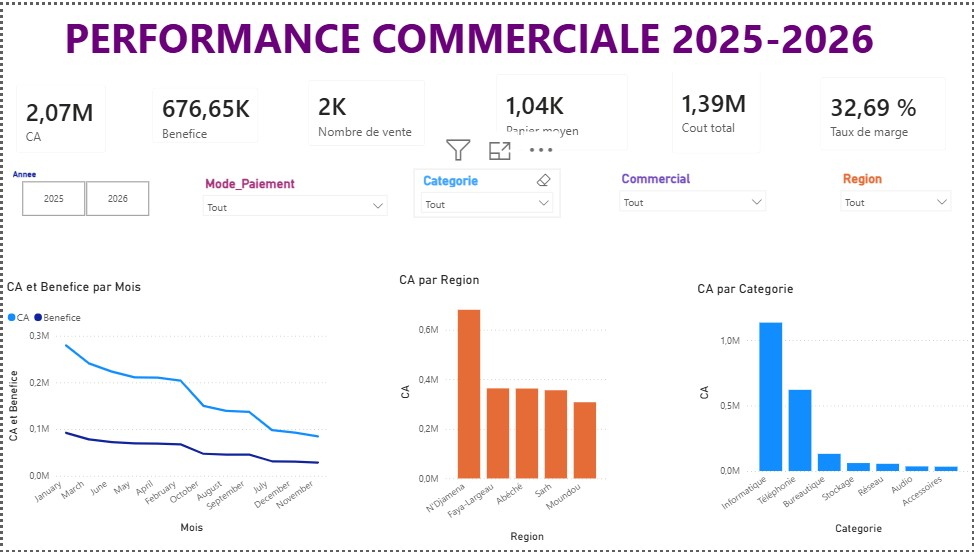

The page's visual inventory and layout, read from the dashboard file:
{"tool":"powerbi","page":{"name":"performance Commerciale","canvas":[1280,720],"ordinal":0},"visuals":[{"type":"cardVisual","fields":{"Data":["Fact_Ventes.CA"]},"box":[0,88.4,153.8,124.9],"z":0},{"type":"cardVisual","fields":{"Data":["Fact_Ventes.Benefice"]},"box":[180.7,92.3,174.9,107.6],"z":1000},{"type":"cardVisual","fields":{"Data":["Fact_Ventes.Cout total"]},"box":[866.8,63.4,151.8,149.9],"z":2000},{"type":"cardVisual","fields":{"Data":["Fact_Ventes.Nombre de vente"]},"box":[385,81.7,188.3,121.1],"z":3000},{"type":"cardVisual","fields":{"Data":["Fact_Ventes.Panier moyen"]},"box":[634.3,74.3,208.6,135.7],"z":4000},{"type":"cardVisual","fields":{"Data":["Fact_Ventes.Quantite vendues"]},"box":[626.5,0,13.5,75],"z":5000},{"type":"cardVisual","fields":{"Data":["Fact_Ventes.Taux de marge"]},"box":[1062.5,77.5,200,131.2],"z":6000},{"type":"lineChart","fields":{"Category":["Dim_Date.Mois"],"Y":["Fact_Ventes.CA","Fact_Ventes.Benefice"]},"box":[0,361.3,432.4,340.2],"z":7000},{"type":"columnChart","fields":{"Y":["Fact_Ventes.CA"],"Category":["Dim_Produit.Categorie"]},"box":[911.7,363.3,369,340.2],"z":8000},{"type":"slicer","fields":{"Values":["Dim_Date.Annee"]},"box":[0,212.2,216.7,73.3],"z":9000},{"type":"slicer","fields":{"Values":["Dim_Commercial.Commercial"]},"box":[803.3,213.3,213.3,75],"z":10000},{"type":"slicer","fields":{"Values":["Dim_Produit.Categorie"]},"box":[542,215.3,194.1,67.3],"z":11000},{"type":"slicer","fields":{"Values":["Fact_Ventes.Mode_Paiement"]},"box":[253.7,219.1,263.3,75],"z":12000},{"type":"textbox","box":[76.9,0,1116.6,88.4],"z":13000},{"type":"columnChart","fields":{"Y":["Fact_Ventes.CA"],"Category":["Dim_Commercial.Region"]},"box":[518.3,351.7,286,362],"z":14000},{"type":"slicer","fields":{"Values":["Dim_Commercial.Region"]},"box":[1096,214,166,70],"z":15000}]}

Visuals, with their boxes in screenshot pixels (x1, y1, x2, y2), scaled from the page's 1280x720 canvas onto the 974x552 screenshot:
cardVisual - Fact_Ventes.CA: l=0, t=68, r=117, b=164
cardVisual - Fact_Ventes.Benefice: l=138, t=71, r=271, b=153
cardVisual - Fact_Ventes.Cout total: l=660, t=49, r=775, b=164
cardVisual - Fact_Ventes.Nombre de vente: l=293, t=63, r=436, b=155
cardVisual - Fact_Ventes.Panier moyen: l=483, t=57, r=641, b=161
cardVisual - Fact_Ventes.Quantite vendues: l=477, t=0, r=487, b=58
cardVisual - Fact_Ventes.Taux de marge: l=808, t=59, r=961, b=160
lineChart - Dim_Date.Mois x Fact_Ventes.CA: l=0, t=277, r=329, b=538
columnChart - Fact_Ventes.CA x Dim_Produit.Categorie: l=694, t=279, r=973, b=539
slicer - Dim_Date.Annee: l=0, t=163, r=165, b=219
slicer - Dim_Commercial.Commercial: l=611, t=164, r=774, b=221
slicer - Dim_Produit.Categorie: l=412, t=165, r=560, b=217
slicer - Fact_Ventes.Mode_Paiement: l=193, t=168, r=393, b=225
textbox: l=59, t=0, r=908, b=68
columnChart - Fact_Ventes.CA x Dim_Commercial.Region: l=394, t=270, r=612, b=547
slicer - Dim_Commercial.Region: l=834, t=164, r=960, b=218
